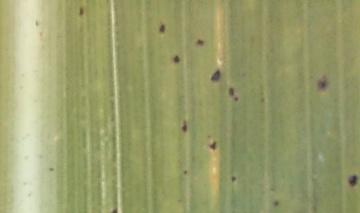tarspot: (318, 74, 328, 92), (209, 68, 221, 82), (348, 174, 358, 187), (180, 117, 188, 133), (157, 22, 166, 34), (208, 140, 217, 151), (172, 54, 181, 64), (77, 5, 85, 16), (195, 37, 204, 46), (272, 197, 280, 207), (258, 94, 266, 103), (33, 17, 40, 27), (228, 86, 235, 96), (229, 174, 237, 182), (47, 165, 55, 172), (110, 206, 118, 213), (233, 94, 239, 102), (182, 168, 188, 175)
